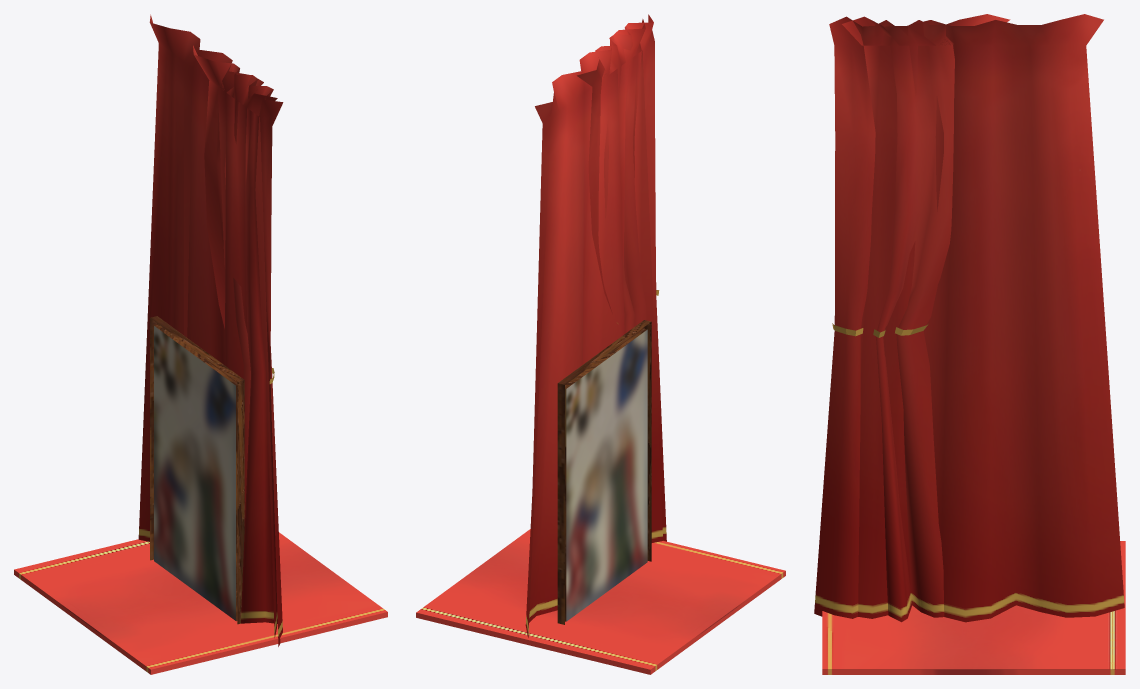
The model's file is Obj_prop.fbx.
3 renders of one model, left to right at view 1: azimuth 30°, elevation 25°; view 2: azimuth 150°, elevation 25°; view 3: azimuth 270°, elevation 25°, orthographic. The views are drawn at different scales.
Visible parts, largest first — view 1: Obj_prop_cortinaabierta, Obj_prop_alfombra, Obj_prop_cuadro2, Obj_prop_cortinacerrada; view 2: Obj_prop_cortinaabierta, Obj_prop_alfombra, Obj_prop_cuadro2, Obj_prop_cortinacerrada; view 3: Obj_prop_cortinaabierta, Obj_prop_cortinacerrada, Obj_prop_alfombra.
Part boxes in pixels (box(x1,y1,x2,y2)): Obj_prop_cortinaabierta: box(138, 14, 277, 637); Obj_prop_alfombra: box(14, 532, 387, 674); Obj_prop_cuadro2: box(150, 316, 244, 624); Obj_prop_cortinacerrada: box(193, 45, 283, 646); Obj_prop_cortinaabierta: box(525, 19, 662, 637); Obj_prop_alfombra: box(416, 529, 785, 674); Obj_prop_cuadro2: box(557, 320, 651, 624); Obj_prop_cortinacerrada: box(577, 14, 666, 560); Obj_prop_cortinaabierta: box(842, 14, 1124, 622); Obj_prop_cortinacerrada: box(814, 14, 1010, 622); Obj_prop_alfombra: box(822, 541, 1125, 674).
Bounding box in the file's own units: 2 × 4.34 × 2.05.
